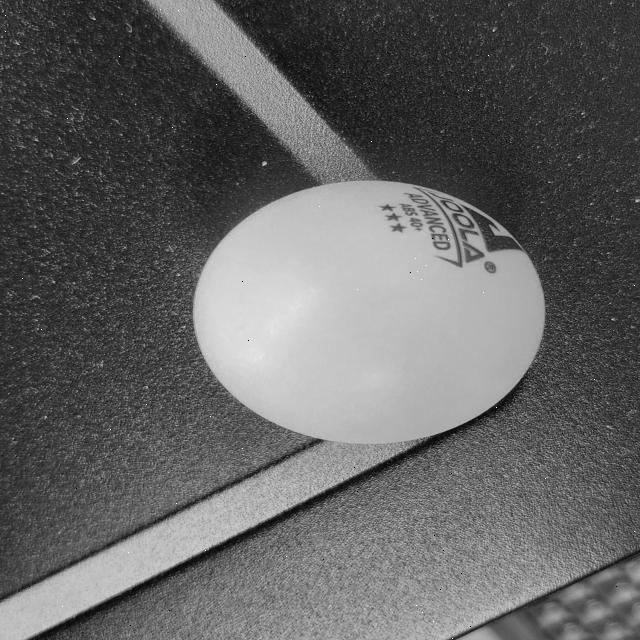ping-pong-ball: (191, 164, 556, 453)
